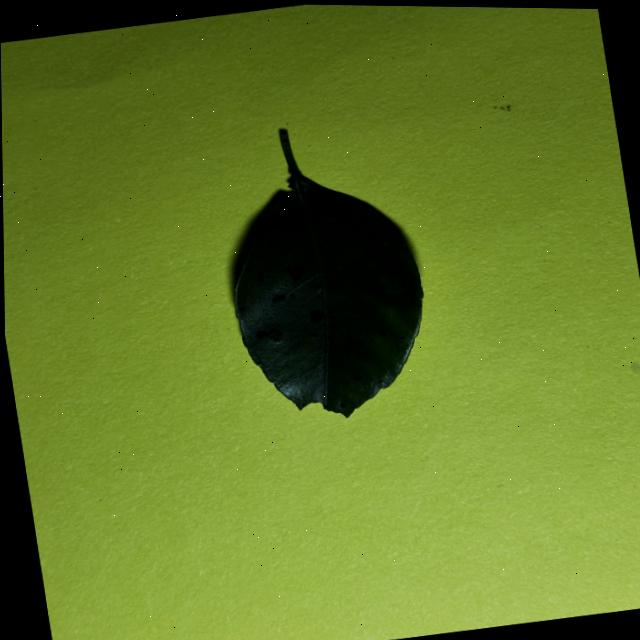sooty_mold: (234, 131, 422, 416)
